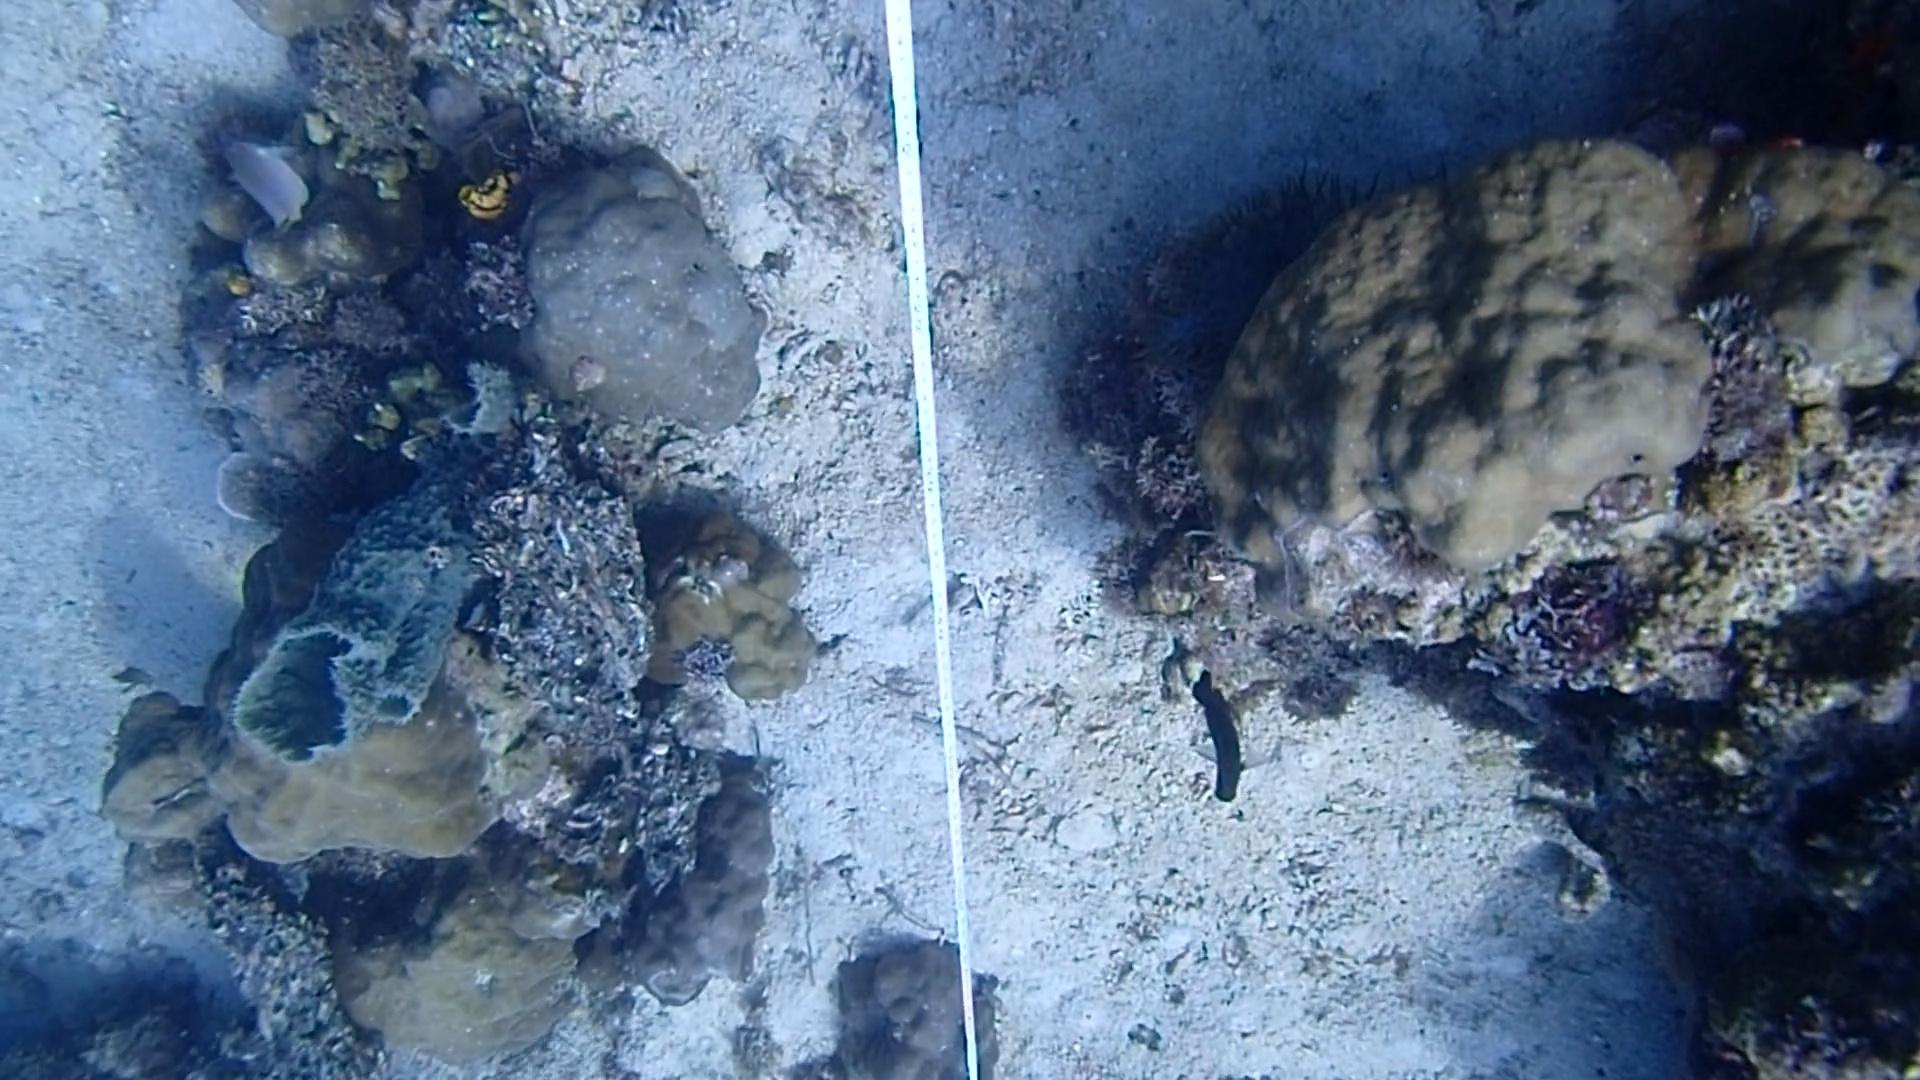Dark Fish: (1172, 662, 1259, 812)
